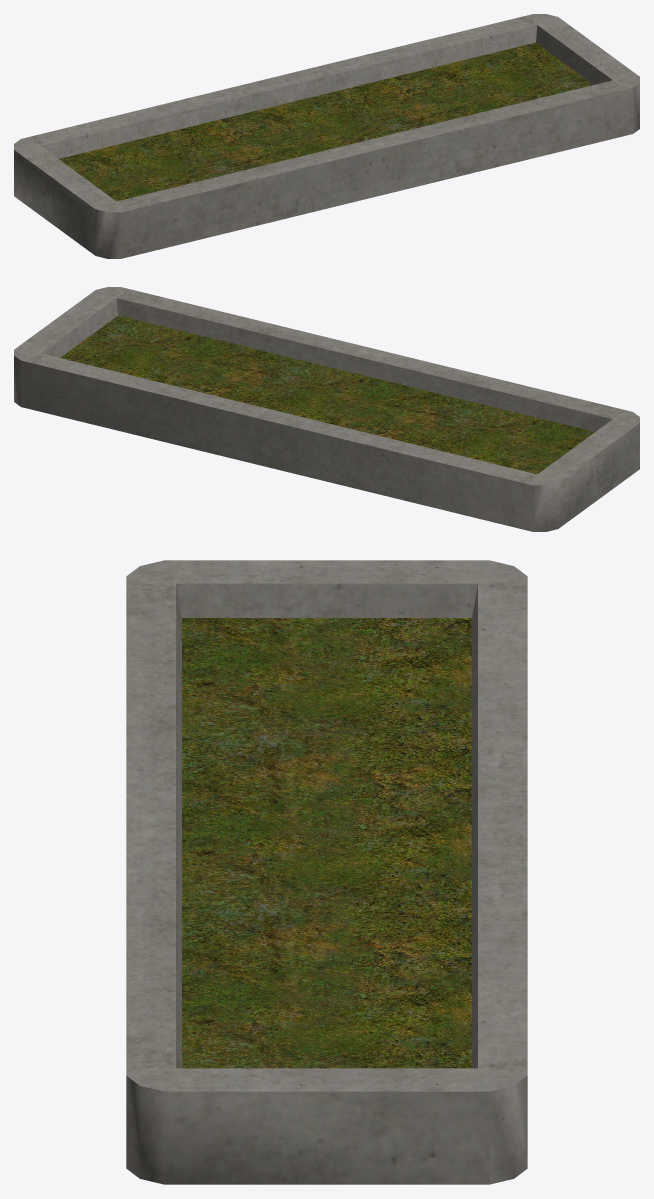
File: Prop_XxHuatan02.glb
3 renders of one model, top to bottom at view 1: azimuth 30°, elevation 25°; view 2: azimuth 150°, elevation 25°; view 3: azimuth 270°, elevation 25°, orthographic. The views are drawn at different scales.
Parts seen in each view (by area): view 1: xiutz_xx_huatan_02_0; view 2: xiutz_xx_huatan_02_0; view 3: xiutz_xx_huatan_02_0.
Boxes of the visible parts, x1,y1,x2,y2 form: xiutz_xx_huatan_02_0: [14, 14, 639, 258]; xiutz_xx_huatan_02_0: [14, 287, 639, 531]; xiutz_xx_huatan_02_0: [126, 560, 527, 1184].
Size of the model in its own units: 7.24 by 0.5915 by 2.31.
Materials: 2 (2 with a texture image).
